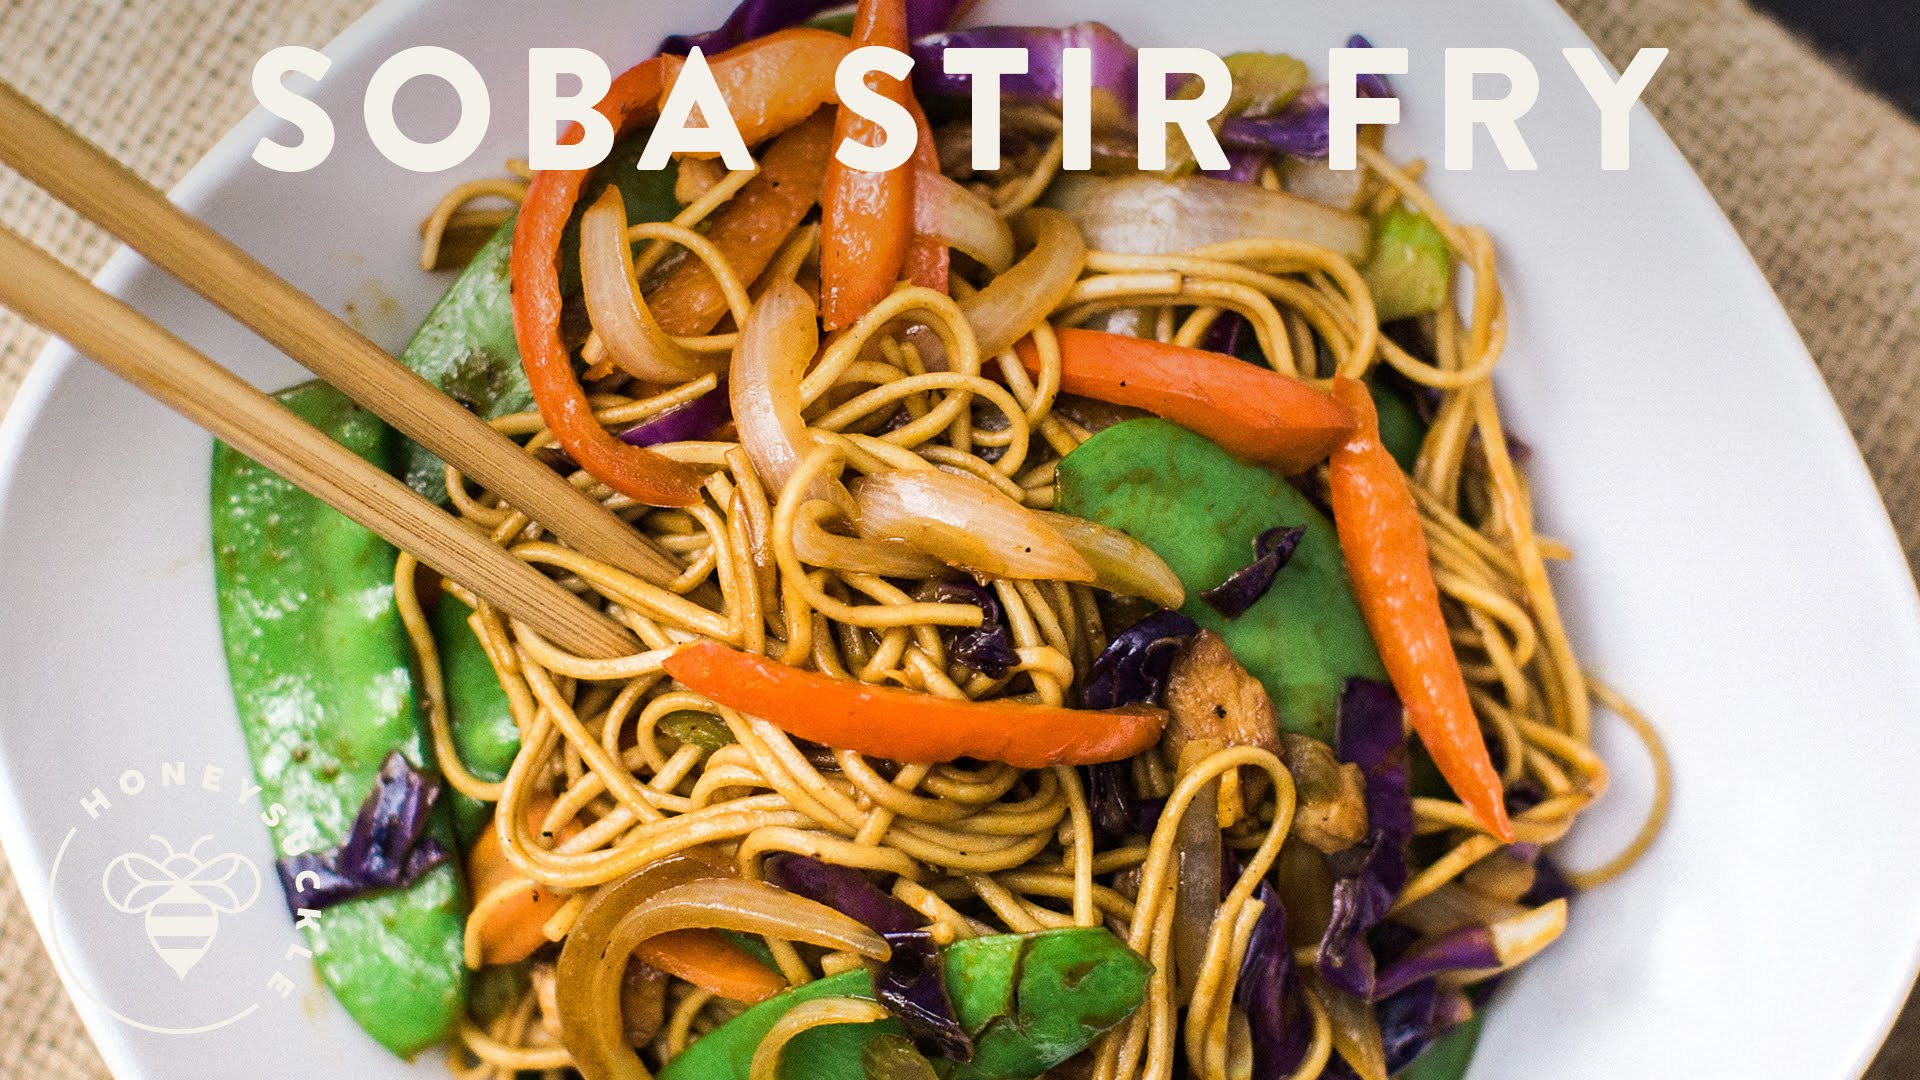Soba: (404, 179, 1640, 1080)
